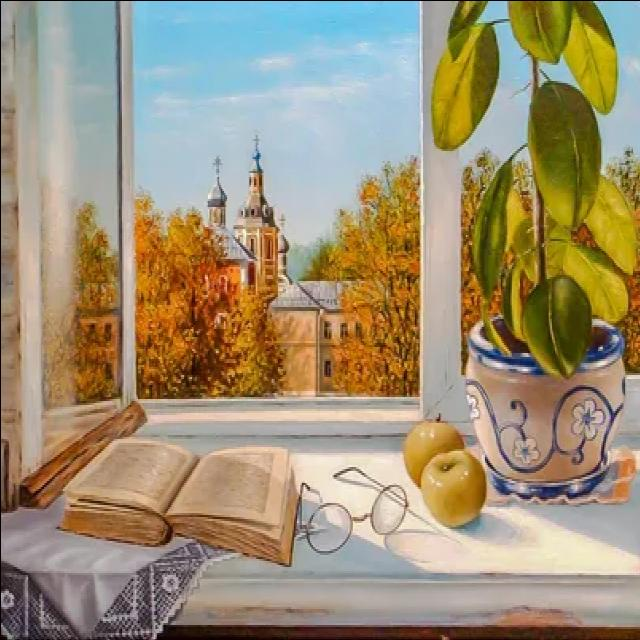book: (65, 426, 312, 584)
